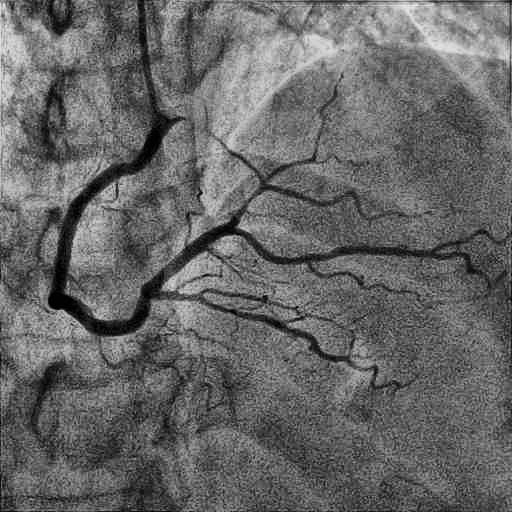pborca: (148, 224, 479, 290)
pda: (153, 291, 399, 389)
rca: (48, 124, 167, 336)
